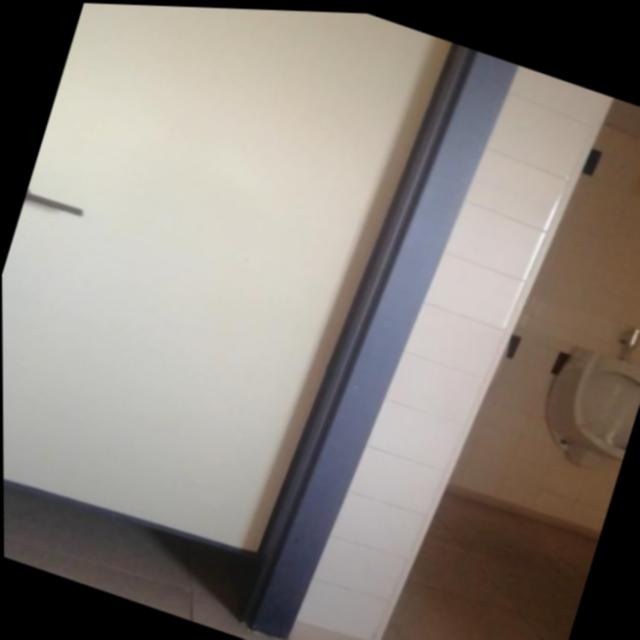door_handle: (24, 189, 83, 217)
